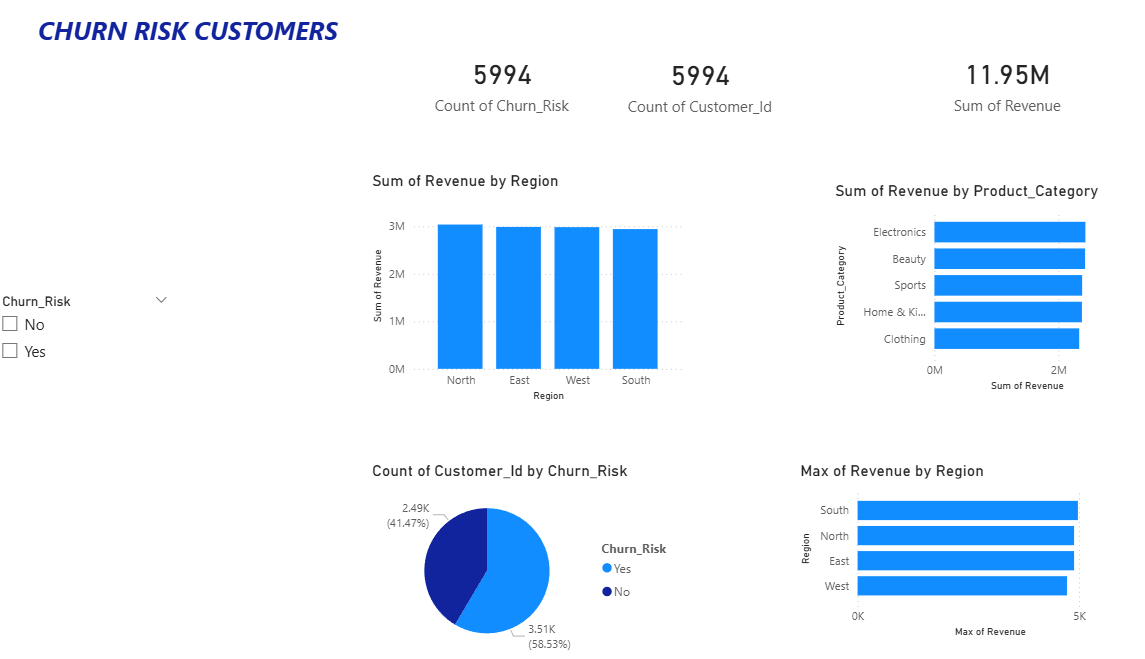

Layout of this report page (visuals, bound fields, positions):
{"tool":"powerbi","page":{"name":"CHURN RISK CUSTOMERS DASHBOARD","canvas":[1280,720],"ordinal":2},"visuals":[{"type":"card","fields":{"Values":["CountNonNull(Churn_Risk_Customers.Customer_Id)"]},"box":[651.2,20.9,281.4,160.5],"z":0},{"type":"slicer","fields":{"Values":["Churn_Risk_Customers.Churn_Risk"]},"box":[32.6,318.6,202.3,181.4],"z":1000},{"type":"columnChart","fields":{"Category":["CSV Cleaned_Analytics_Dataset.Region"],"Y":["Sum(CSV Cleaned_Analytics_Dataset.Revenue)"]},"box":[436.7,193.6,342.1,249.8],"z":2000},{"type":"barChart","fields":{"Category":["CSV Cleaned_Analytics_Dataset.Product_Category"],"Y":["Sum(CSV Cleaned_Analytics_Dataset.Revenue)"]},"box":[931.8,204.8,324.1,229.6],"z":3000},{"type":"pieChart","fields":{"Category":["Churn_Risk_Customers.Churn_Risk"],"Y":["CountNonNull(Churn_Risk_Customers.Customer_Id)"]},"box":[436.7,504.2,342.1,216.1],"z":3001},{"type":"card","fields":{"Values":["Sum(CSV Cleaned_Analytics_Dataset.Revenue)"]},"box":[1018.6,20.9,202.3,158.1],"z":3002},{"type":"barChart","fields":{"Category":["CSV Cleaned_Analytics_Dataset.Region"],"Y":["Max(CSV Cleaned_Analytics_Dataset.Revenue)"]},"box":[893.6,504.2,362.4,193.6],"z":3003},{"type":"card","fields":{"Values":["CountNonNull(Churn_Risk_Customers.Churn_Risk)"]},"box":[479.1,20.9,202.3,158.1],"z":3004},{"type":"textbox","box":[32.6,20.9,423.3,132.6],"z":3005}]}

Visuals, with their boxes in screenshot pixels (x1, y1, x2, y2), scaled from the page's 1280x720 canvas onto the 1145x659 screenshot:
card - CountNonNull(Churn_Risk_Customers.Customer_Id): [left=583, top=19, right=834, bottom=166]
slicer - Churn_Risk_Customers.Churn_Risk: [left=29, top=292, right=210, bottom=458]
columnChart - CSV Cleaned_Analytics_Dataset.Region x Sum(CSV Cleaned_Analytics_Dataset.Revenue): [left=391, top=177, right=697, bottom=406]
barChart - CSV Cleaned_Analytics_Dataset.Product_Category x Sum(CSV Cleaned_Analytics_Dataset.Revenue): [left=834, top=187, right=1123, bottom=398]
pieChart - Churn_Risk_Customers.Churn_Risk x CountNonNull(Churn_Risk_Customers.Customer_Id): [left=391, top=461, right=697, bottom=658]
card - Sum(CSV Cleaned_Analytics_Dataset.Revenue): [left=911, top=19, right=1092, bottom=164]
barChart - CSV Cleaned_Analytics_Dataset.Region x Max(CSV Cleaned_Analytics_Dataset.Revenue): [left=799, top=461, right=1124, bottom=639]
card - CountNonNull(Churn_Risk_Customers.Churn_Risk): [left=429, top=19, right=610, bottom=164]
textbox: [left=29, top=19, right=408, bottom=140]
